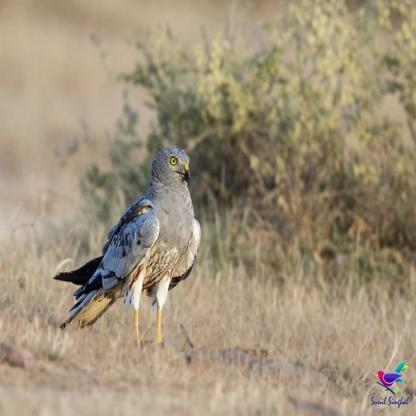Burung: (50, 146, 205, 340)
